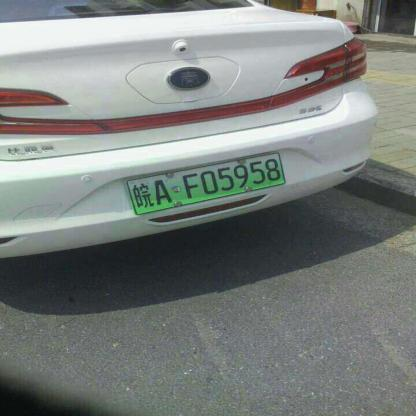lp: (128, 153, 285, 213)
